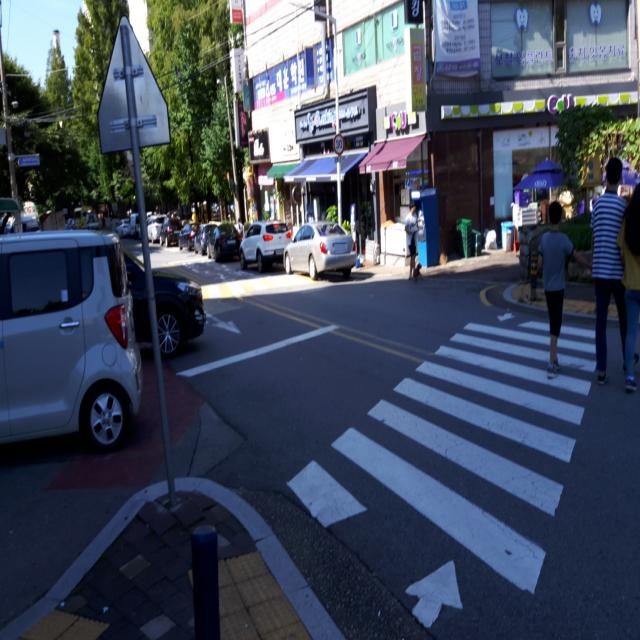횡단보도: (283, 306, 603, 632)
